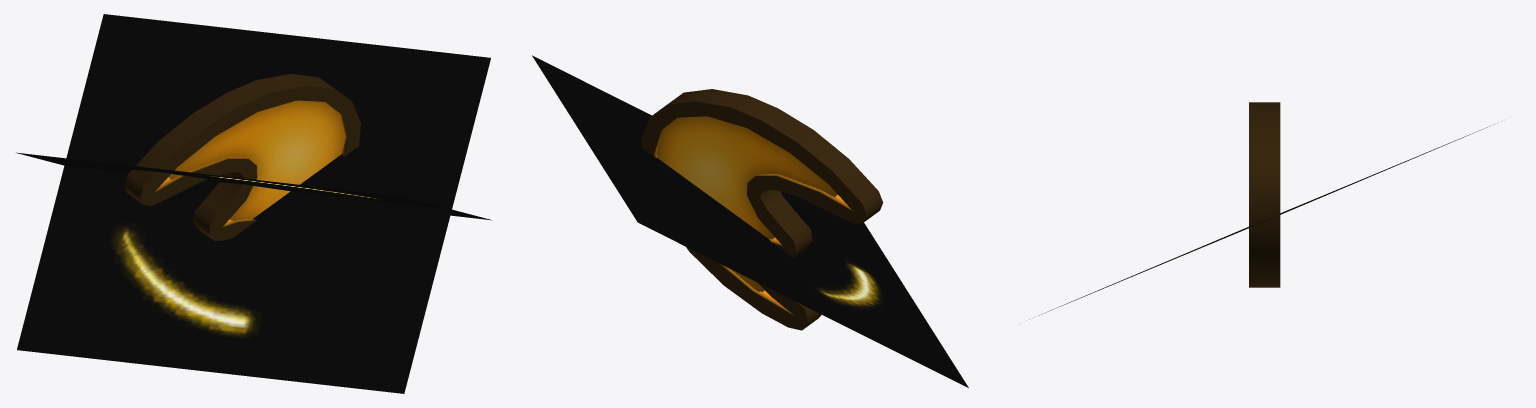
Rendered from Pickup_Move_Speed.fbx.
3 views of the same model, side by side, from view 1: azimuth 30°, elevation 25°; view 2: azimuth 150°, elevation 25°; view 3: azimuth 270°, elevation 25° (orthographic). The views are drawn at different scales.
Parts seen in each view (by area): view 1: plane (×2), Pickup_Buff_Speed; view 2: plane, Pickup_Buff_Speed; view 3: Pickup_Buff_Speed, plane.
Boxes of the visible parts, x1,y1,x2,y2 form: plane (×2): (16,14,491,393); Pickup_Buff_Speed: (124,74,360,240); plane: (532,55,968,387); Pickup_Buff_Speed: (641,89,883,330); Pickup_Buff_Speed: (1249,102,1280,287); plane: (1026,122,1498,320).
Bounding box in the file's own units: 3.72 × 1.65 × 3.72.
4 materials, 3 textured.
